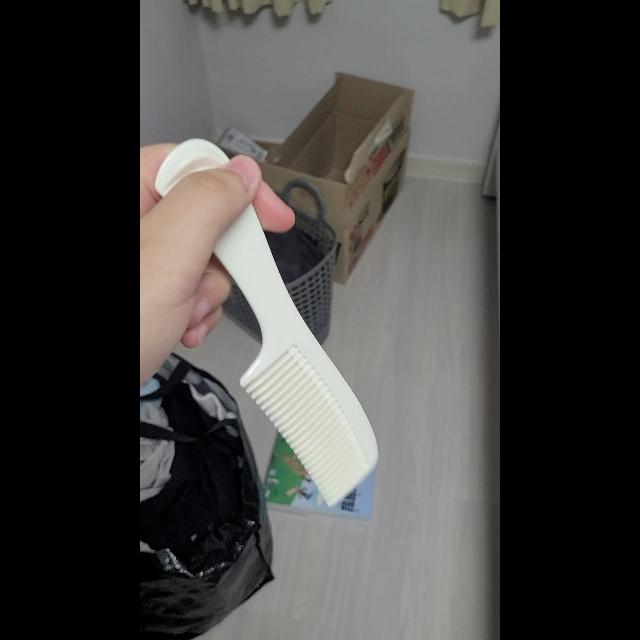COMB: (154, 136, 376, 504)
